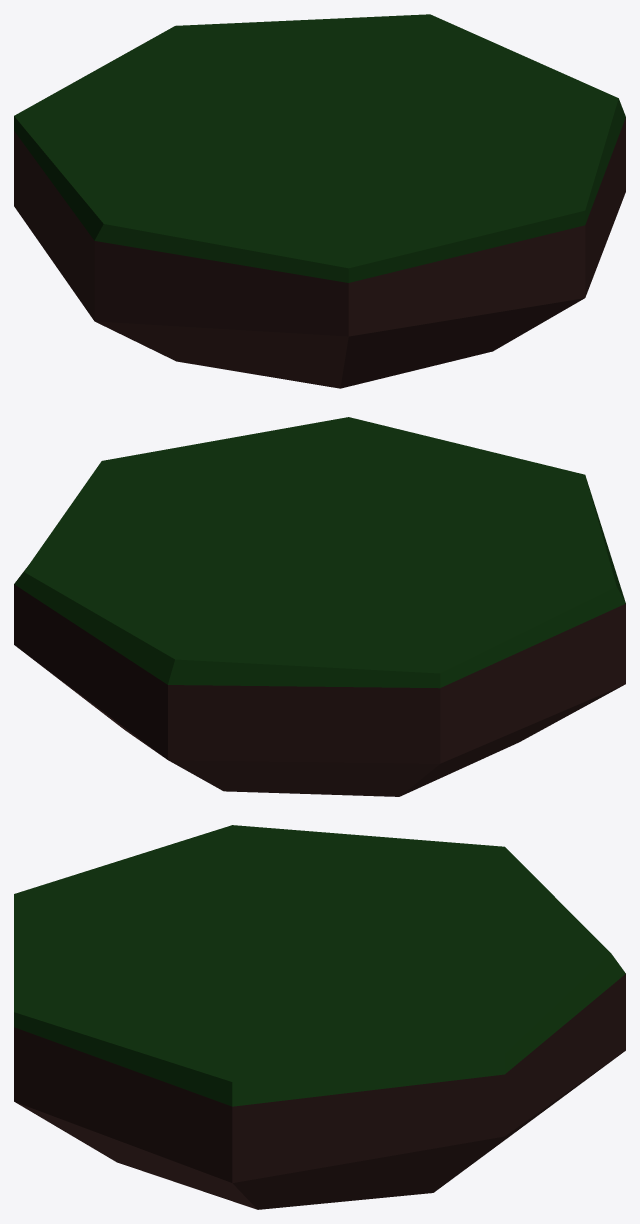
File: grass_platform.obj
3 views of the same model, one above another, from view 1: azimuth 30°, elevation 25°; view 2: azimuth 150°, elevation 25°; view 3: azimuth 270°, elevation 25° (orthographic). The views are drawn at different scales.
Visible parts, largest first — view 1: GrassPlatform_Cylinder.001; view 2: GrassPlatform_Cylinder.001; view 3: GrassPlatform_Cylinder.001.
Part boxes in pixels (x1,y1,x2,y2): GrassPlatform_Cylinder.001: (14,14,625,388); GrassPlatform_Cylinder.001: (14,417,625,796); GrassPlatform_Cylinder.001: (14,825,625,1209).
Bounding box in the file's own units: 0.633 × 0.1905 × 0.6171.
